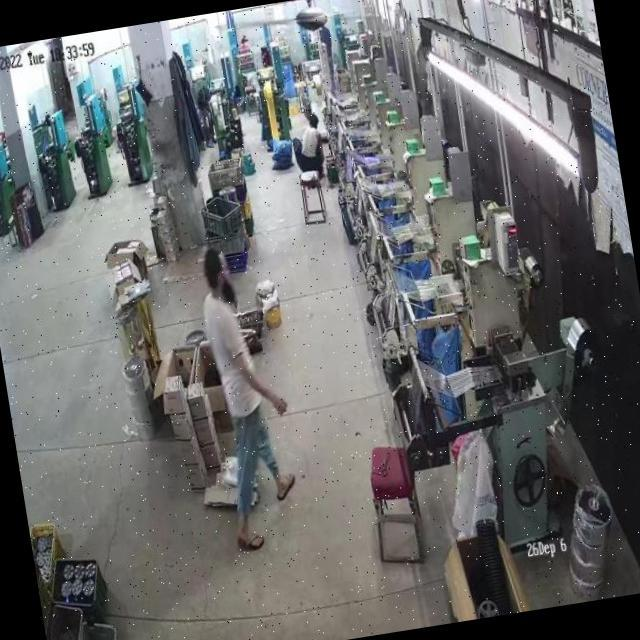person: (195, 244, 292, 552), (288, 112, 333, 179)
